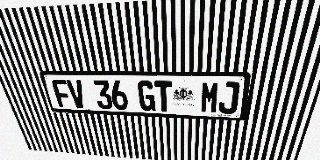3: (93, 80, 113, 109)
6: (109, 80, 129, 110)
F: (51, 79, 73, 108)
G: (137, 80, 156, 111)
J: (218, 82, 240, 114)
M: (200, 81, 220, 113)
T: (154, 81, 172, 112)
V: (66, 80, 87, 108)
